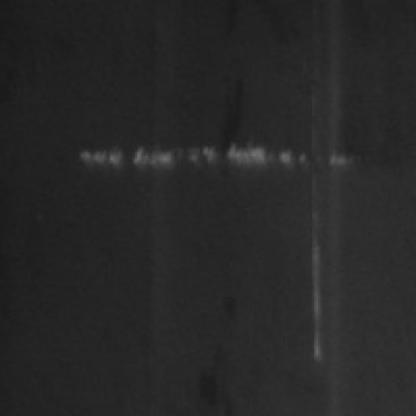scratches: (295, 152, 331, 370), (74, 142, 352, 168)
